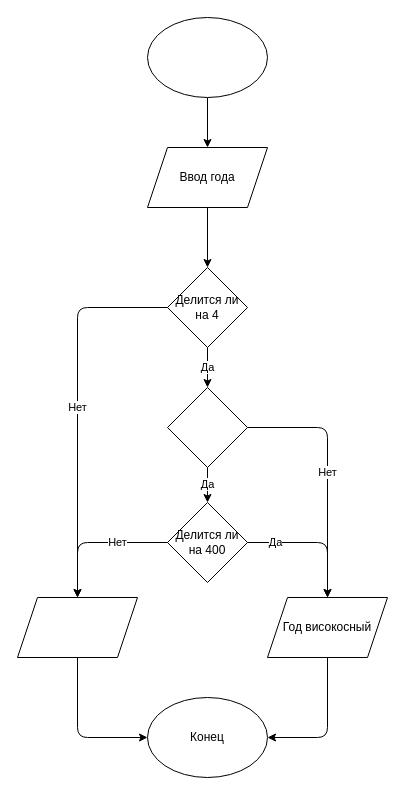
The diagram is 405 pixels wide and 795 high, and some of its shapes have lost their labels. The shapes that lost their labels are listed below. From the top down, each one's box as (x1, y1, x2, y2) in pixels, then its label:
(146, 16, 268, 98): Начало
(166, 386, 248, 468): Делится ли на 100
(16, 596, 138, 658): Год не високосный
